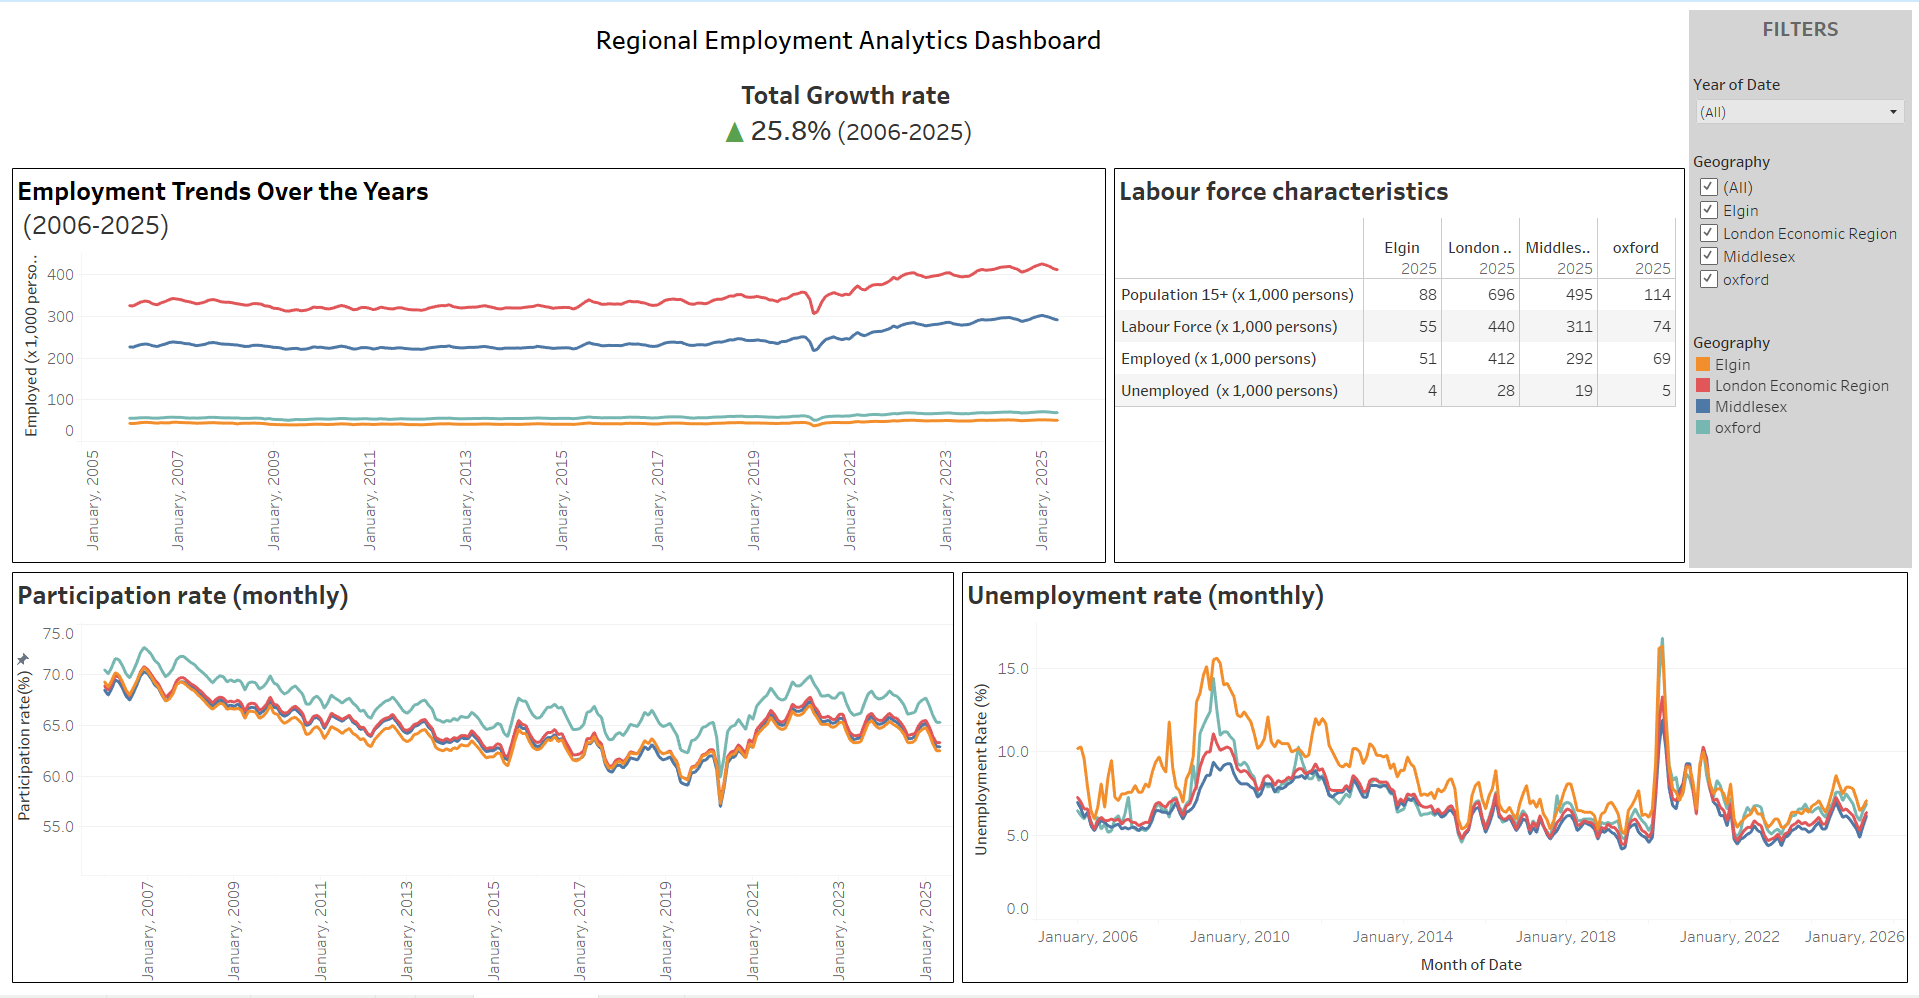

What the dashboard file says about the page in this screenshot:
{"tool":"tableau","page":{"name":"Dashboard 1","canvas":[1000,1000],"units":"permille","ordinal":0},"visuals":[{"type":"text","box":[4.8,10,855.8,58.5]},{"type":"text","box":[860.6,10,134.6,43.7]},{"type":"filter","title":"Participation rate ","param":"[federated.0z9u4cf1gsn07g1fkbmad11b485j].[yr:Calculation_1163617562935644161:ok]","box":[860.6,53.7,134.6,76.2]},{"type":"worksheet","title":"BANS","mark":"Automatic","box":[4.8,68.7,855.8,97.4]},{"type":"filter","title":"Employment","param":"[federated.0z9u4cf1gsn07g1fkbmad11b485j].[Action (Region)]","box":[860.6,129.8,134.6,169.6]},{"type":"worksheet","title":"Employment","mark":"Automatic","rows":["Employed"],"cols":["Calculation_1163617562935644161"],"box":[4.8,165.9,506.3,393.2]},{"type":"worksheet","title":"KPI","mark":"Automatic","cols":["Region","Calculation_1163617562935644161"],"box":[511.2,165.9,349.4,393.2]},{"type":"filter","title":"KPI","param":"[federated.0z9u4cf1gsn07g1fkbmad11b485j].[my:Calculation_1163617562935644161:ok]","box":[860.6,299.4,134.6,111.1]},{"type":"legend","title":"Employment","param":"[federated.0z9u4cf1gsn07g1fkbmad11b485j].[none:Region:nk]","box":[860.6,410.5,134.6,148.6]},{"type":"worksheet","title":"Participation rate ","mark":"Automatic","rows":["Participation rate(%)"],"cols":["Calculation_1163617562935644161"],"box":[4.8,559.1,494.5,430.9]},{"type":"worksheet","title":"Unemployment","mark":"Automatic","rows":["Unemployment Rate (%)"],"cols":["Calculation_1163617562935644161"],"box":[499.3,559.1,495.9,430.9]}]}

Visuals, with their boxes on the dashboard's canvas, which has no fixed pixel size, in thousandths of its width and height (x1, y1, x2, y2). These are canvas units, not pixel positions in the 1919x998 screenshot, which may show the page scaled, cropped or inside an application window:
text: 5/10/861/68
text: 861/10/995/54
"Participation rate " filter: 861/54/995/130
"BANS" worksheet: 5/69/861/166
"Employment" filter: 861/130/995/299
"Employment" worksheet: 5/166/511/559
"KPI" worksheet: 511/166/861/559
"KPI" filter: 861/299/995/410
"Employment" legend: 861/410/995/559
"Participation rate " worksheet: 5/559/499/990
"Unemployment" worksheet: 499/559/995/990
